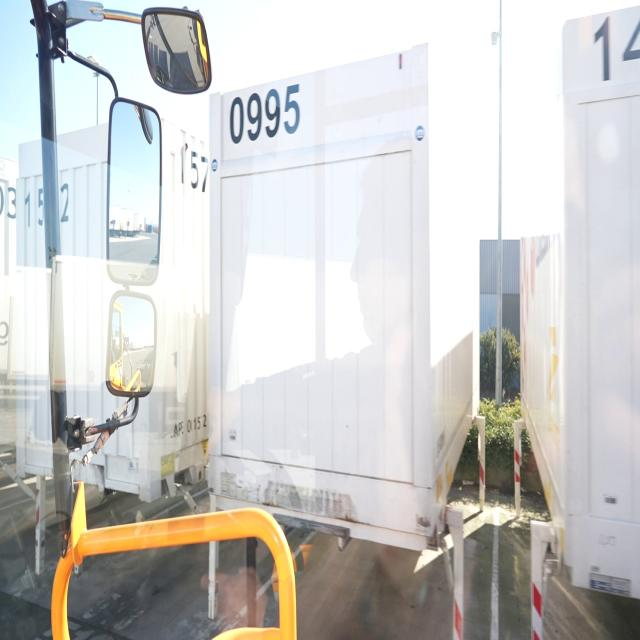Code: (227, 79, 304, 149)
